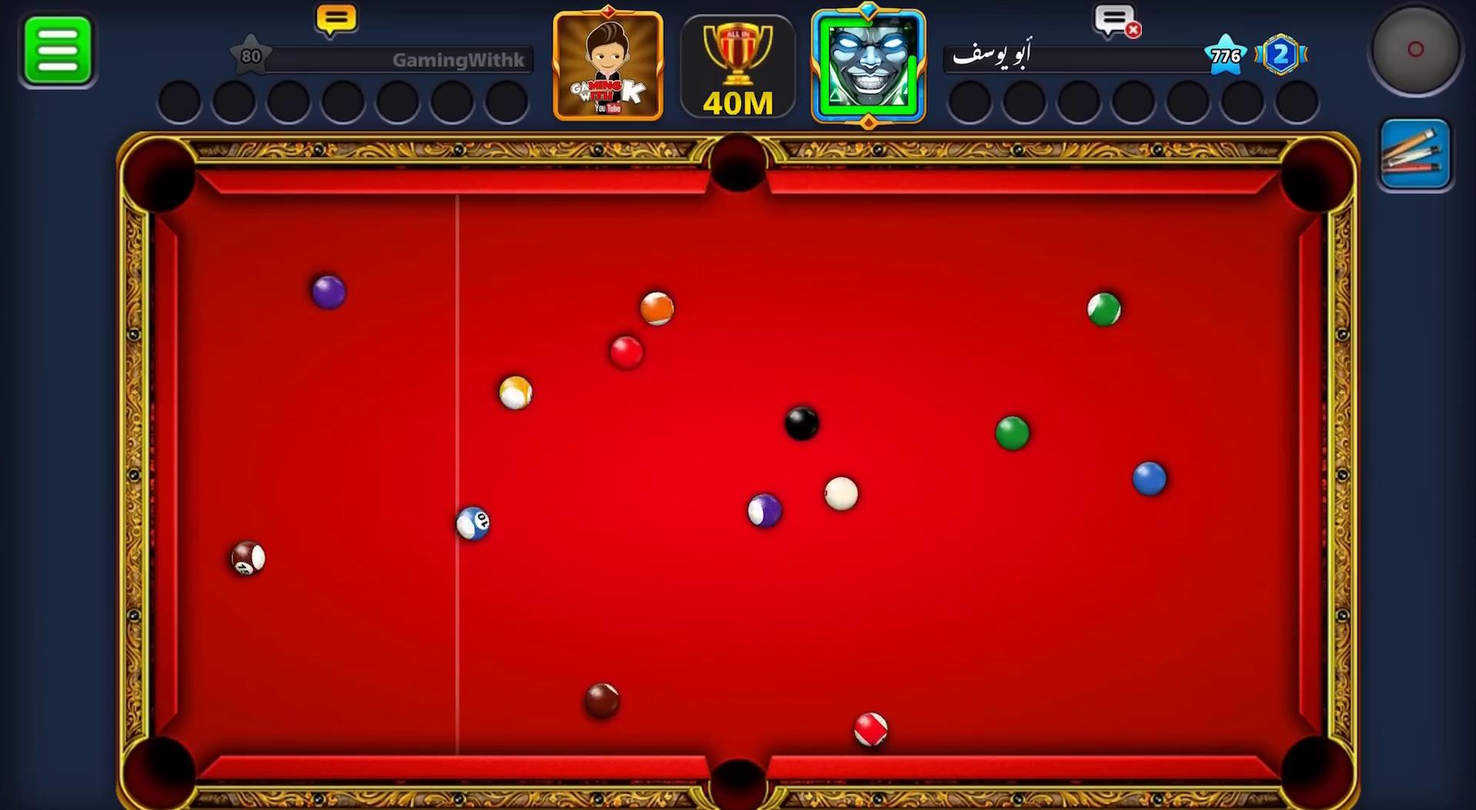Ball: (309, 276, 345, 312), (852, 713, 886, 751), (230, 543, 264, 580), (748, 493, 782, 528), (499, 375, 532, 411), (639, 292, 675, 325), (458, 507, 491, 541), (995, 416, 1027, 450), (610, 335, 642, 369), (1087, 291, 1119, 324), (1132, 460, 1162, 493), (787, 408, 817, 439), (589, 685, 621, 714)
Hole: (123, 137, 202, 220), (1283, 136, 1357, 221), (1280, 733, 1357, 810), (124, 734, 196, 810), (704, 136, 772, 197), (708, 757, 769, 810)
Play_Area: (180, 197, 1288, 755)
Spin: (1367, 5, 1467, 101)
White: (824, 478, 862, 512)
